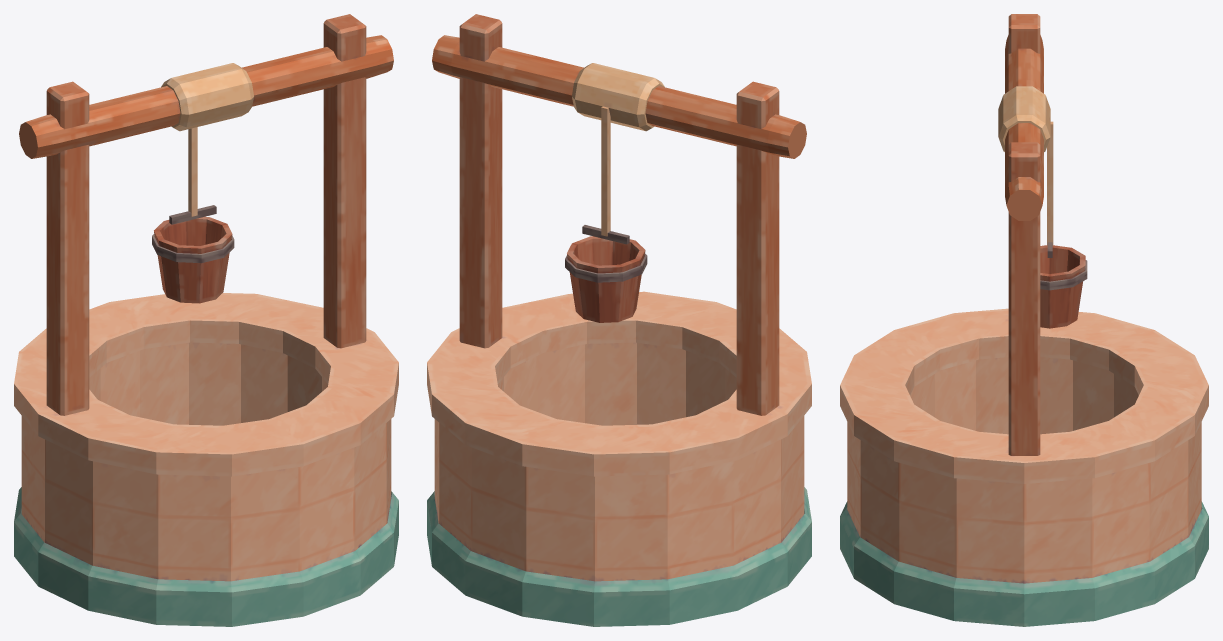
Rendered from well.fbx.
3 views of the same model, side by side, from view 1: azimuth 30°, elevation 25°; view 2: azimuth 150°, elevation 25°; view 3: azimuth 270°, elevation 25° (orthographic). The views are drawn at different scales.
Parts seen in each view (by area): view 1: well; view 2: well; view 3: well.
Boxes of the visible parts, x1,y1,x2,y2 form: well: (14, 14, 398, 626); well: (427, 14, 811, 626); well: (840, 14, 1208, 626).
Bounding box in the file's own units: 5.4 × 7.1 × 5.1.
Materials: 1 (1 with a texture image).
